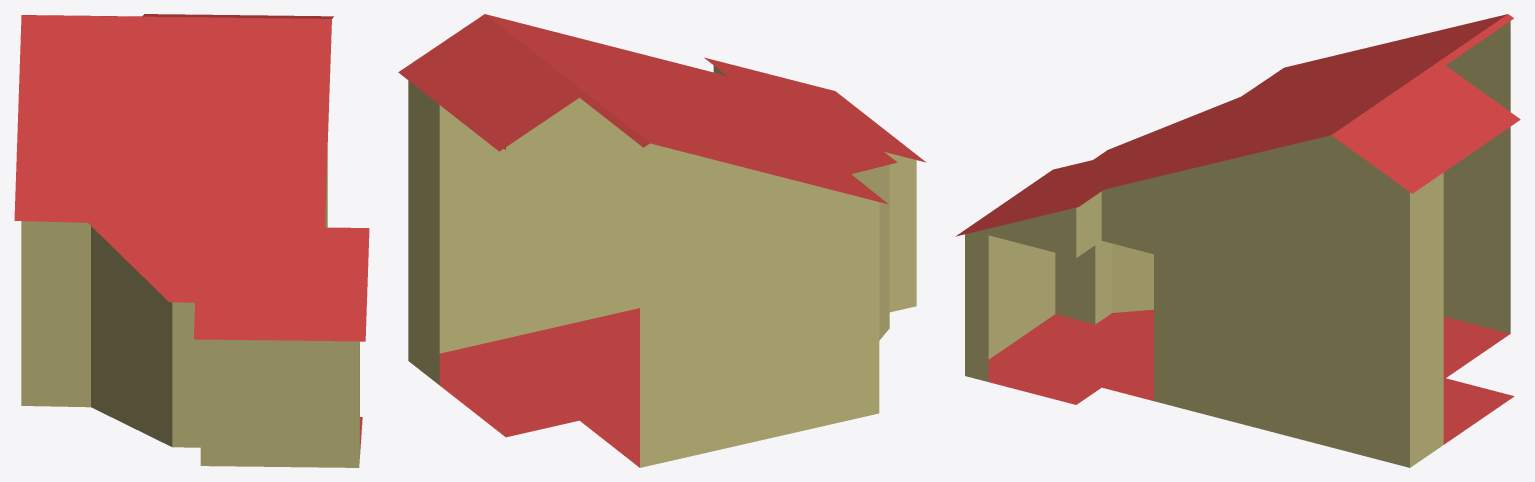
The picture shows the model from 3 angles, left to right: view 1: azimuth 30°, elevation 25°; view 2: azimuth 150°, elevation 25°; view 3: azimuth 270°, elevation 25°; orthographic projection. The views are drawn at different scales.
Size of the model in its own units: 16.56 by 19.72 by 12.14.
